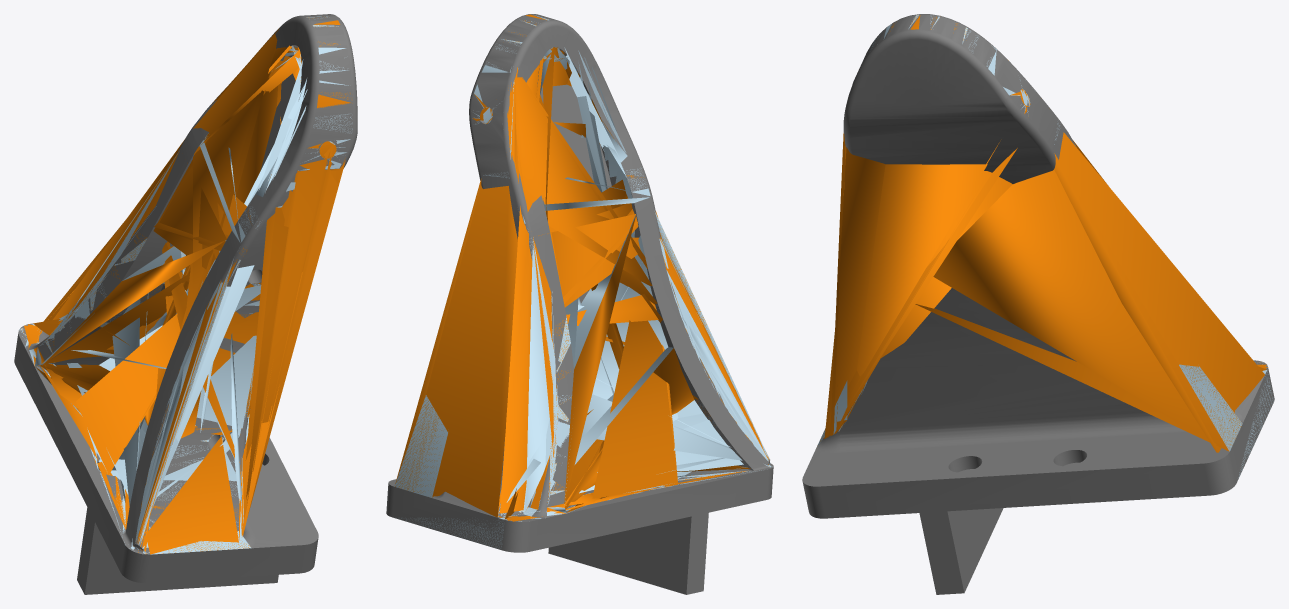
Rendered from Mirrorlink8__1__1.dae.
The picture shows the model from 3 angles, left to right: view 1: azimuth 30°, elevation 25°; view 2: azimuth 150°, elevation 25°; view 3: azimuth 270°, elevation 25°; orthographic projection. The views are drawn at different scales.
Parts seen in each view (by area): view 1: node2, node0, node1; view 2: node2, node0, node1; view 3: node0, node2, node1.
Part boxes in pixels (x1=…): node2: x1=22, y1=17, x2=352, y2=554; node0: x1=14, y1=14, x2=357, y2=594; node1: x1=19, y1=16, x2=352, y2=554; node2: x1=395, y1=14, x2=769, y2=521; node0: x1=386, y1=14, x2=773, y2=594; node1: x1=394, y1=15, x2=772, y2=549; node0: x1=802, y1=14, x2=1274, y2=594; node2: x1=817, y1=15, x2=1267, y2=452; node1: x1=816, y1=15, x2=1273, y2=477.
Size of the model in its own units: 0.0432 by 0.0899 by 0.0647.
